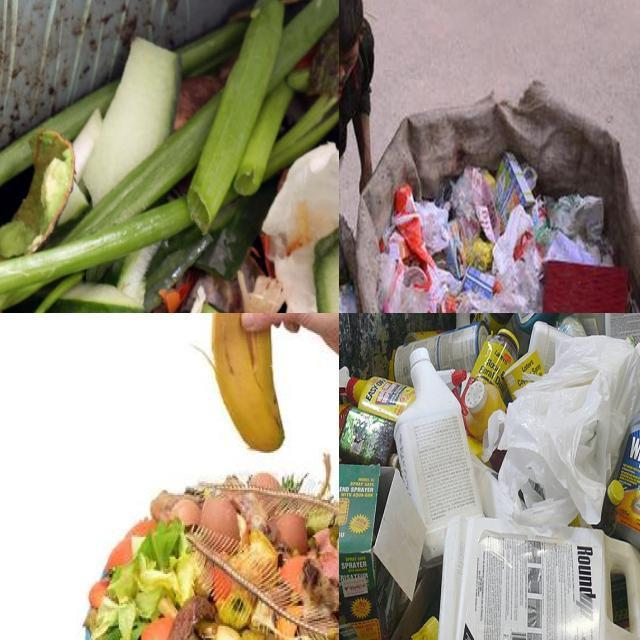Garbage: (0, 0, 339, 313), (339, 313, 640, 640), (85, 468, 339, 640), (373, 154, 640, 313)
Glass_bottle: (471, 329, 520, 398), (475, 313, 513, 333)
Plastic_Bag: (499, 335, 640, 527), (377, 187, 543, 313), (545, 231, 599, 265)
Plastic_Container: (438, 517, 640, 640), (395, 347, 483, 561), (339, 367, 415, 422), (464, 380, 506, 440), (594, 481, 624, 536), (605, 313, 640, 343), (437, 369, 467, 390), (579, 313, 605, 335), (455, 313, 477, 329)
Tetrapack: (495, 152, 535, 228), (548, 194, 604, 243)
Tin_box: (394, 323, 489, 385), (339, 408, 395, 466)
